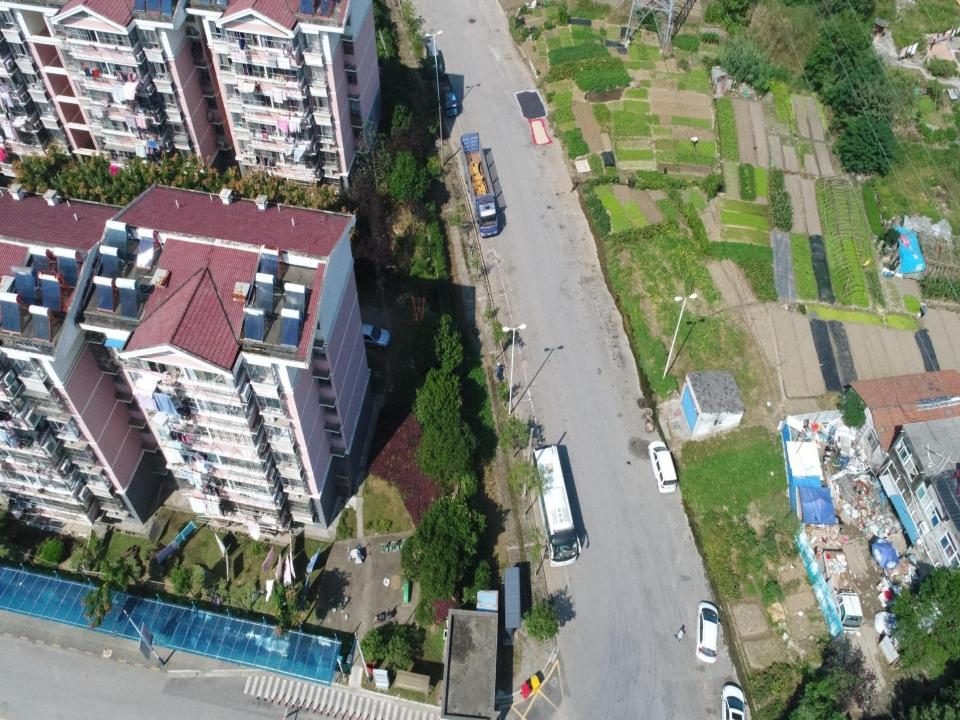bus: (531, 444, 582, 568)
car: (694, 601, 720, 664), (647, 440, 677, 494), (355, 323, 391, 351), (720, 684, 746, 719)
truck: (460, 131, 498, 236), (822, 550, 863, 633), (433, 74, 458, 116)
van: (425, 41, 441, 74)
